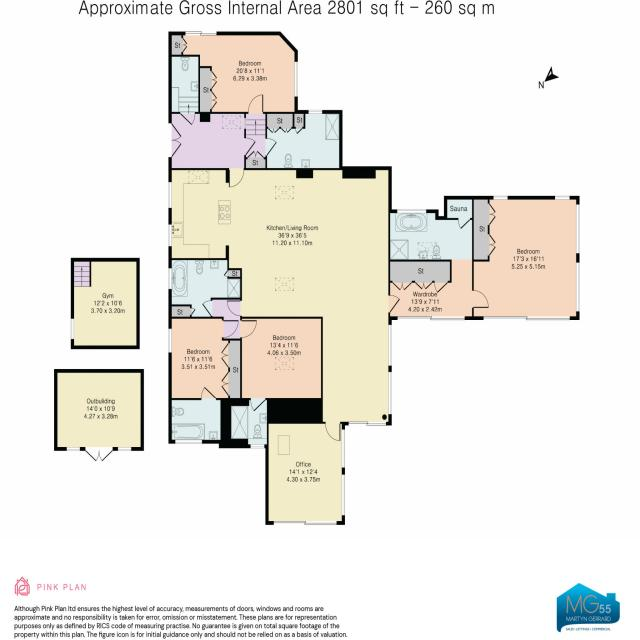DOOR: (247, 93, 265, 115), (471, 289, 490, 309), (239, 319, 258, 339), (228, 167, 246, 188), (221, 319, 239, 339), (324, 421, 341, 442), (243, 136, 258, 157), (388, 294, 402, 315), (226, 300, 243, 317), (179, 111, 197, 127), (264, 137, 278, 157), (250, 397, 267, 413), (200, 386, 217, 401), (457, 217, 471, 231), (201, 300, 213, 316)
ROOM: (166, 164, 402, 443), (471, 194, 581, 321), (167, 30, 299, 114), (265, 396, 346, 526), (239, 315, 324, 424), (167, 316, 242, 407)
SLIDING DOOR: (184, 30, 218, 36)
WINDOW: (387, 371, 393, 416), (387, 324, 393, 367), (575, 203, 580, 254), (575, 262, 580, 312), (396, 208, 427, 215), (341, 473, 346, 516), (341, 429, 346, 469), (294, 61, 299, 98), (175, 439, 203, 444), (168, 182, 172, 209), (492, 195, 509, 201), (168, 328, 172, 353), (168, 224, 172, 247), (308, 109, 323, 115), (168, 268, 172, 290), (554, 195, 571, 200), (250, 444, 265, 449), (244, 117, 247, 129)
